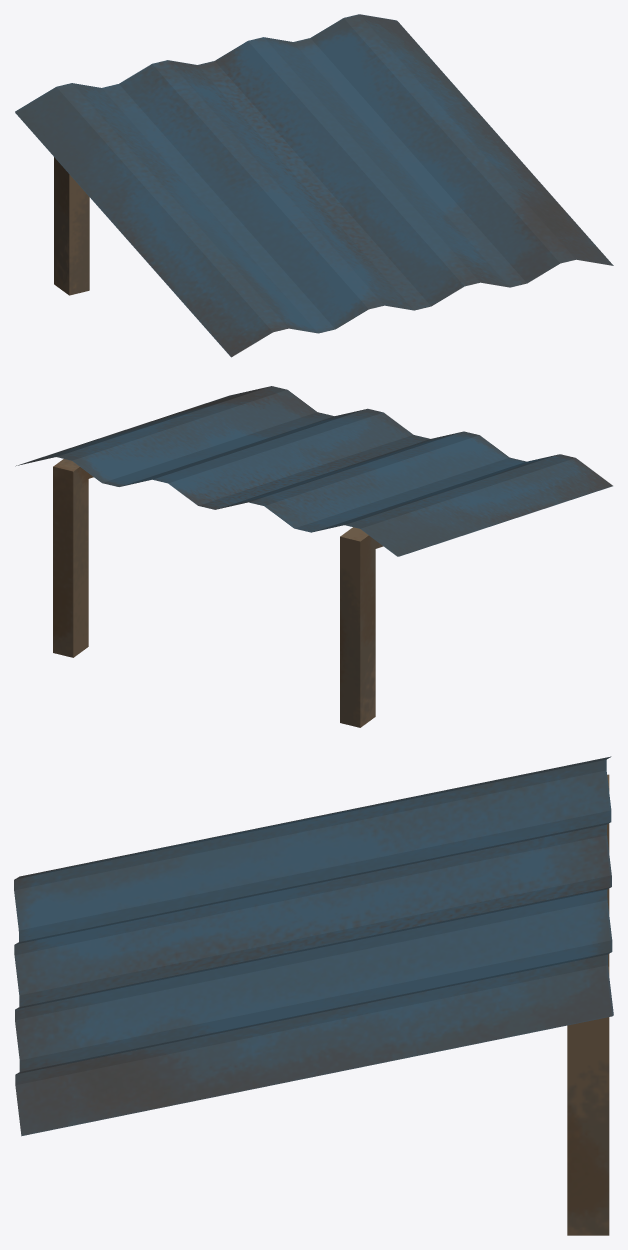
File: TEJA.fbx
3 views of the same model, one above another, from view 1: azimuth 30°, elevation 25°; view 2: azimuth 150°, elevation 25°; view 3: azimuth 270°, elevation 25° (orthographic). The views are drawn at different scales.
Parts seen in each view (by area): view 1: Teja.001; view 2: Teja.001; view 3: Teja.001.
Part boxes in pixels (box(x1,y1,x2,y2)): Teja.001: box(15, 14, 613, 357); Teja.001: box(15, 386, 612, 727); Teja.001: box(14, 756, 613, 1235).
Bounding box in the file's own units: 672 × 331 × 663.
